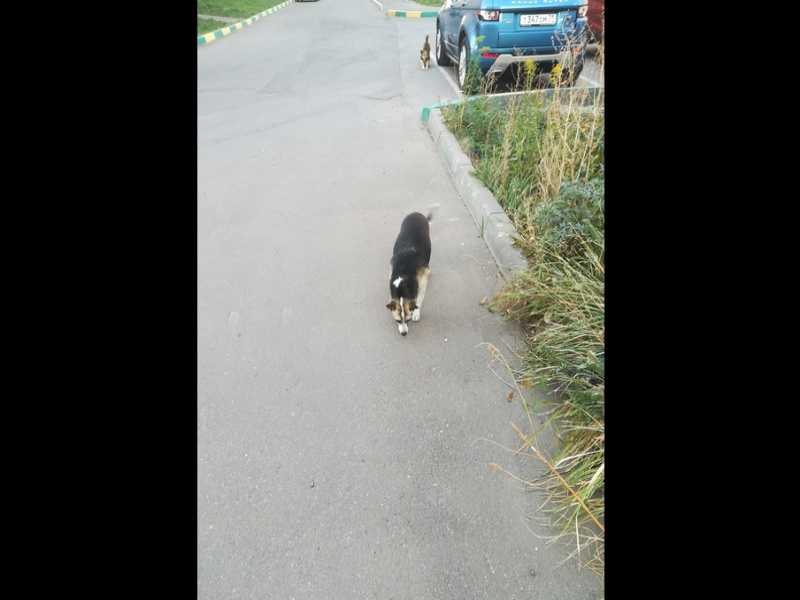dog: (383, 209, 436, 337), (417, 34, 435, 72)
